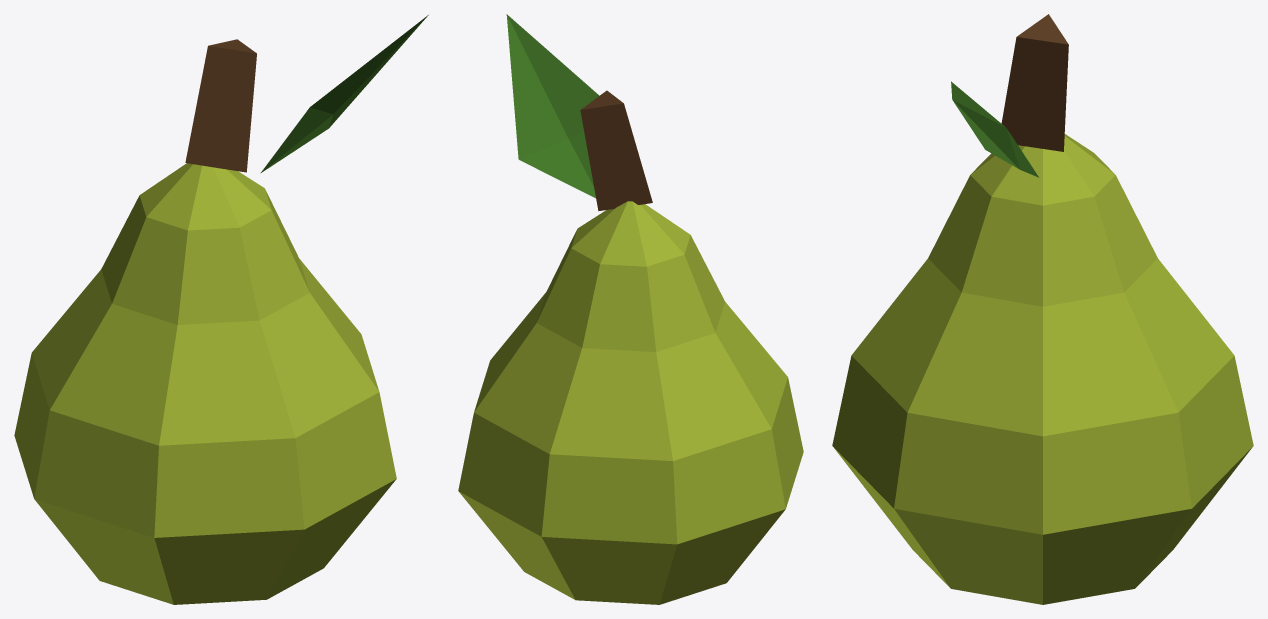
File: pear-6171b0.glb
The picture shows the model from 3 angles, left to right: view 1: azimuth 30°, elevation 25°; view 2: azimuth 150°, elevation 25°; view 3: azimuth 270°, elevation 25°; orthographic projection. The views are drawn at different scales.
Visible parts, largest first — view 1: pear; view 2: pear; view 3: pear.
Boxes of the visible parts, box(x1,y1,x2,y2) form: pear: box(14, 15, 428, 604); pear: box(458, 14, 803, 604); pear: box(832, 14, 1253, 604).
Size of the model in its own units: 0.113 by 0.172 by 0.11.
